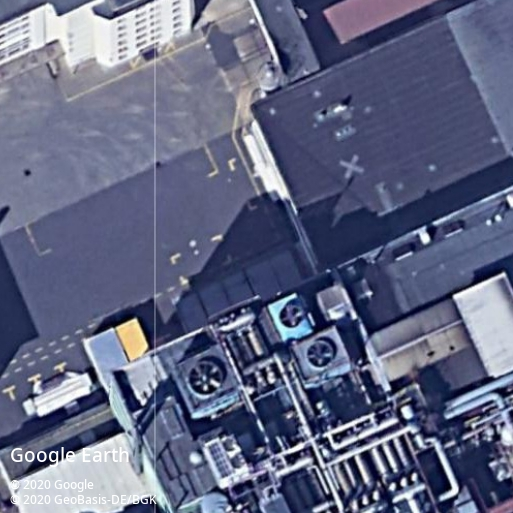Vent: (187, 361, 224, 398), (306, 341, 333, 368), (280, 305, 303, 329)
